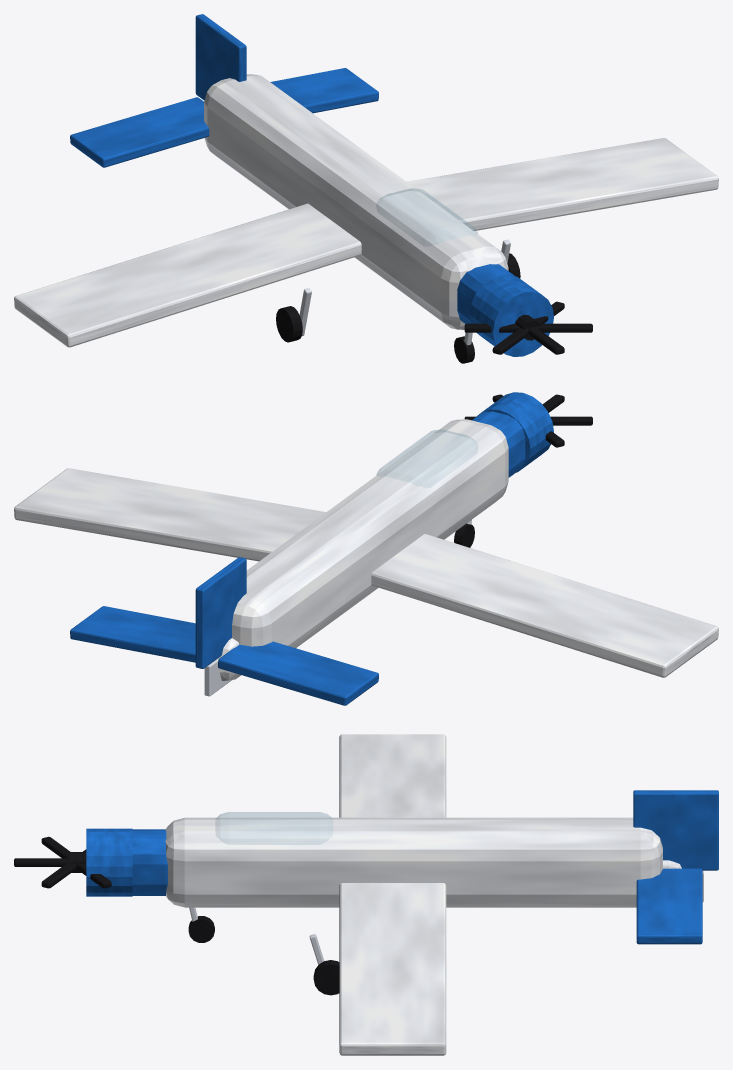
File: veh_airplane.glb
3 views of the same model, one above another, from view 1: azimuth 30°, elevation 25°; view 2: azimuth 150°, elevation 25°; view 3: azimuth 270°, elevation 25° (orthographic). The views are drawn at different scales.
Visible parts, largest first — view 1: veh_airplane_fuselage, veh_airplane_wing_l, veh_airplane_wing_r, veh_airplane_tail_l, veh_airplane_cowl, veh_airplane_canopy, veh_airplane_fin, veh_airplane_tail_r, veh_airplane_nose, veh_airplane_prop_blade2, veh_airplane_gear_wheel_l, veh_airplane_prop_blade1; view 2: veh_airplane_fuselage, veh_airplane_wing_l, veh_airplane_wing_r, veh_airplane_tail_l, veh_airplane_tail_r, veh_airplane_fin, veh_airplane_canopy, veh_airplane_cowl, veh_airplane_nose, veh_airplane_fin_pad; view 3: veh_airplane_fuselage, veh_airplane_wing_r, veh_airplane_wing_l, veh_airplane_fin, veh_airplane_tail_r, veh_airplane_canopy, veh_airplane_cowl, veh_airplane_nose, veh_airplane_gear_wheel_r, veh_airplane_prop_blade1, veh_airplane_gear_nose_wheel.
Boxes of the visible parts, left/top/right/bottom form: veh_airplane_fuselage: left=204, top=74, right=508, bottom=329; veh_airplane_wing_l: left=14, top=203, right=361, bottom=347; veh_airplane_wing_r: left=407, top=138, right=718, bottom=230; veh_airplane_tail_l: left=70, top=97, right=209, bottom=167; veh_airplane_cowl: left=469, top=274, right=553, bottom=356; veh_airplane_canopy: left=376, top=188, right=477, bottom=245; veh_airplane_fin: left=195, top=14, right=246, bottom=100; veh_airplane_tail_r: left=270, top=68, right=378, bottom=113; veh_airplane_nose: left=457, top=264, right=514, bottom=323; veh_airplane_prop_blade2: left=464, top=323, right=592, bottom=332; veh_airplane_gear_wheel_l: left=276, top=306, right=302, bottom=342; veh_airplane_prop_blade1: left=492, top=301, right=564, bottom=354; veh_airplane_fuselage: left=232, top=419, right=508, bottom=648; veh_airplane_wing_l: left=371, top=534, right=718, bottom=677; veh_airplane_wing_r: left=14, top=468, right=325, bottom=561; veh_airplane_tail_l: left=218, top=641, right=378, bottom=705; veh_airplane_tail_r: left=70, top=606, right=195, bottom=662; veh_airplane_fin: left=195, top=557, right=246, bottom=668; veh_airplane_canopy: left=376, top=430, right=477, bottom=487; veh_airplane_cowl: left=475, top=392, right=553, bottom=472; veh_airplane_nose: left=472, top=411, right=525, bottom=477; veh_airplane_fin_pad: left=204, top=659, right=231, bottom=696; veh_airplane_fuselage: left=165, top=817, right=662, bottom=907; veh_airplane_wing_r: left=339, top=883, right=446, bottom=1055; veh_airplane_wing_l: left=339, top=734, right=446, bottom=817; veh_airplane_fin: left=633, top=790, right=718, bottom=870; veh_airplane_tail_r: left=636, top=868, right=702, bottom=944; veh_airplane_canopy: left=216, top=812, right=332, bottom=844; veh_airplane_cowl: left=86, top=828, right=132, bottom=896; veh_airplane_nose: left=132, top=829, right=167, bottom=895; veh_airplane_gear_wheel_r: left=313, top=960, right=339, bottom=995; veh_airplane_prop_blade1: left=41, top=836, right=111, bottom=888; veh_airplane_gear_nose_wheel: left=188, top=916, right=214, bottom=942.
Size of the model in its own units: 11.14 by 2.51 by 10.7.
5 materials, 5 textured.
